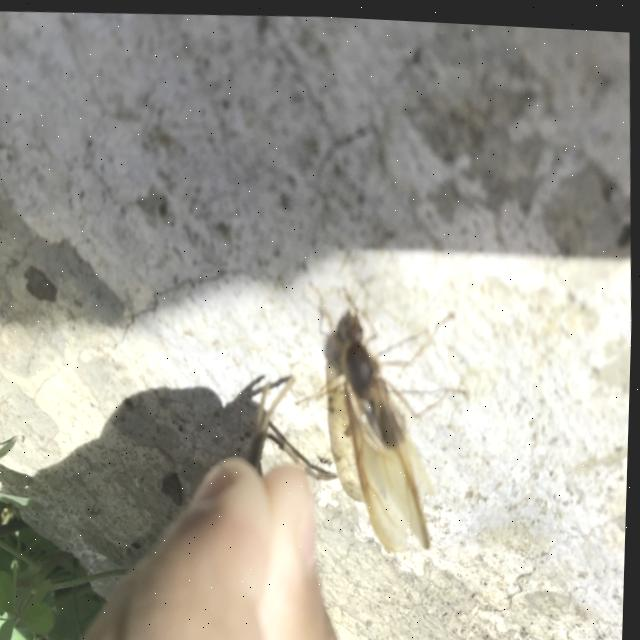Alive-Male-Alate: (287, 270, 480, 555)
